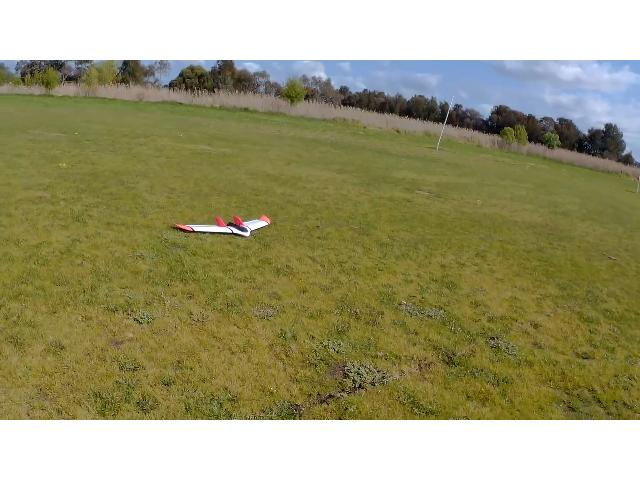Anti-Drone: (174, 198, 290, 250)
